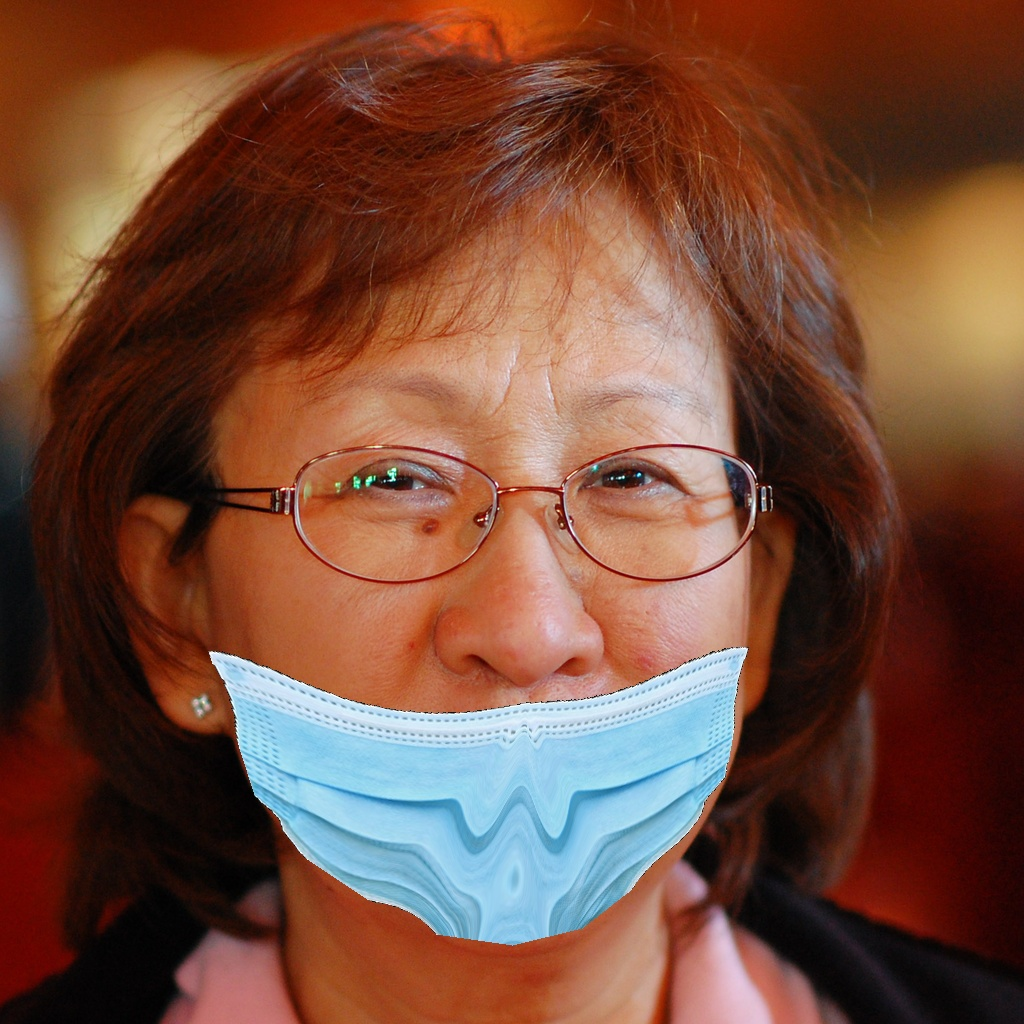Mask_Mouth_Chin: (211, 394, 758, 949)
